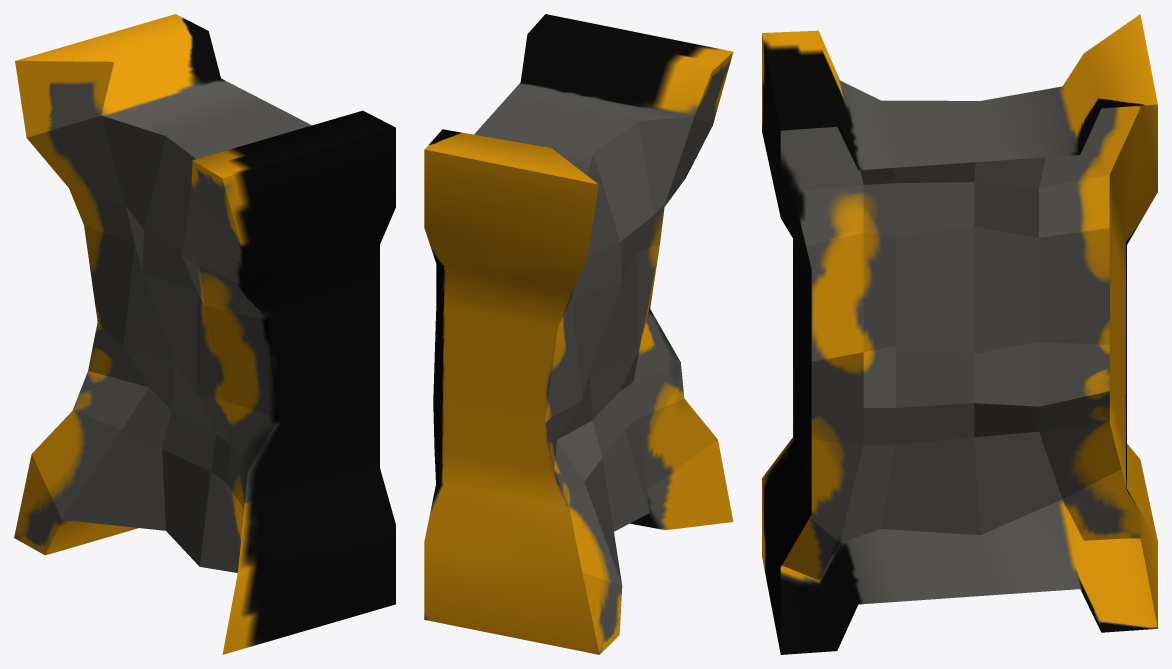
File: segment_broken_2.FBX
3 renders of one model, left to right at view 1: azimuth 30°, elevation 25°; view 2: azimuth 150°, elevation 25°; view 3: azimuth 270°, elevation 25°, orthographic. The views are drawn at different scales.
Parts seen in each view (by area): view 1: Object001; view 2: Object001; view 3: Object001.
Boxes of the visible parts, <box> form: Object001: <box>14,14,395,654</box>; Object001: <box>424,14,733,654</box>; Object001: <box>762,14,1157,654</box>.
Bounding box in the file's own units: 14.38 × 30 × 20.52.
Materials: 1 (1 with a texture image).
